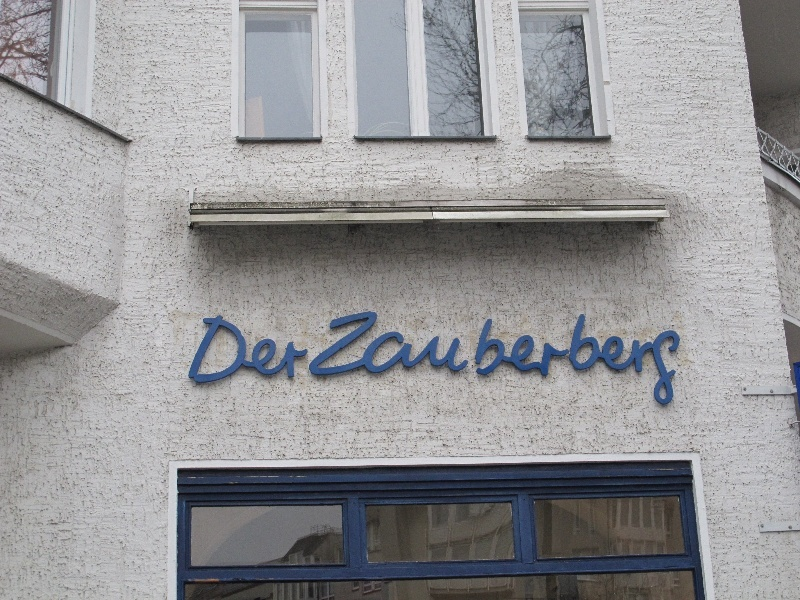text: (209, 304, 224, 408), (225, 304, 240, 408), (241, 304, 256, 408), (257, 304, 272, 408), (273, 304, 288, 408), (289, 304, 304, 408), (305, 304, 320, 408), (321, 304, 336, 408), (337, 304, 352, 408), (353, 304, 368, 408), (369, 304, 384, 408), (385, 304, 400, 408), (401, 304, 416, 408), (417, 304, 432, 408), (433, 304, 448, 408), (449, 304, 464, 408), (465, 304, 480, 408), (481, 304, 496, 408), (497, 304, 512, 408), (513, 304, 528, 408), (529, 304, 544, 408), (545, 304, 560, 408), (561, 304, 576, 408), (577, 304, 592, 408), (593, 304, 608, 408), (609, 304, 624, 408), (625, 304, 640, 408), (641, 304, 656, 408), (657, 304, 672, 408), (673, 304, 682, 408), (203, 304, 208, 408)
